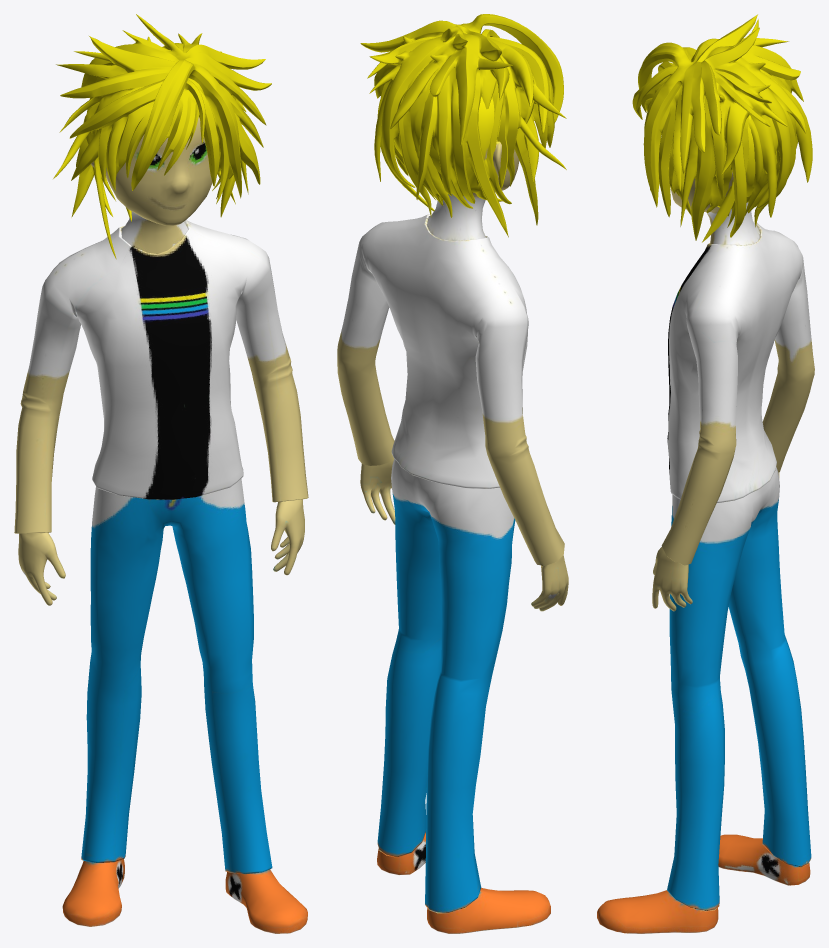
Rendered from edrien.glb.
3 views of the same model, side by side, from view 1: azimuth 30°, elevation 25°; view 2: azimuth 150°, elevation 25°; view 3: azimuth 270°, elevation 25° (orthographic). The views are drawn at different scales.
Parts seen in each view (by area): view 1: object 1, node_id34; view 2: object 1, node_id34; view 3: object 1, node_id34.
Boxes of the visible parts, left/top/right/bottom form: object 1: left=14, top=117, right=308, bottom=933; node_id34: left=53, top=14, right=271, bottom=259; object 1: left=337, top=67, right=568, bottom=933; node_id34: left=360, top=14, right=566, bottom=237; object 1: left=597, top=80, right=814, bottom=933; node_id34: left=632, top=14, right=812, bottom=242.
Bounding box in the file's own units: 0.0983 × 0.3291 × 0.0758.
Materials: 2 (2 with a texture image).
